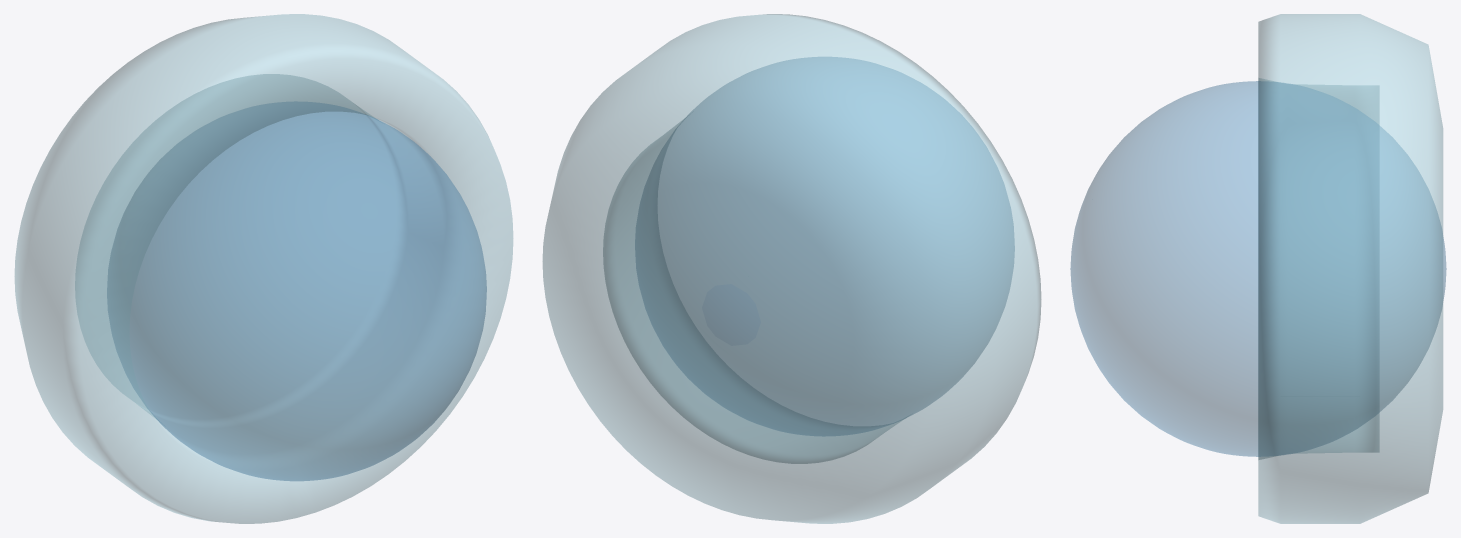
3 renders of one model, left to right at view 1: azimuth 30°, elevation 25°; view 2: azimuth 150°, elevation 25°; view 3: azimuth 270°, elevation 25°, orthographic.
Parts seen in each view (by area): view 1: trackball-cup, trackball; view 2: trackball-cup, trackball; view 3: trackball, trackball-cup.
Part boxes in pixels (left/top/right/bottom): trackball-cup: left=14, top=14, right=513, bottom=523; trackball: left=107, top=101, right=486, bottom=480; trackball-cup: left=542, top=14, right=1041, bottom=523; trackball: left=635, top=57, right=1014, bottom=436; trackball: left=1070, top=81, right=1446, bottom=456; trackball-cup: left=1258, top=14, right=1442, bottom=523.
Size of the model in its own units: 1.6 by 1.6 by 1.18.
